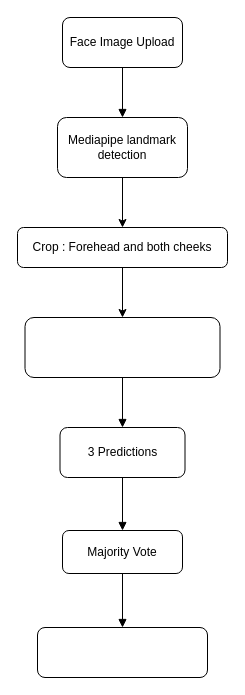
Image size: 245x695. Some labels were removed from this diagram. The shapes that lost their labels are listed below. From the top down, each one's box as (x1, y1, x2, y2) in pixels, then its label:
(24, 316, 220, 378): Resnet50 + CBAM pipeline
(36, 626, 208, 678): Display Final Output
